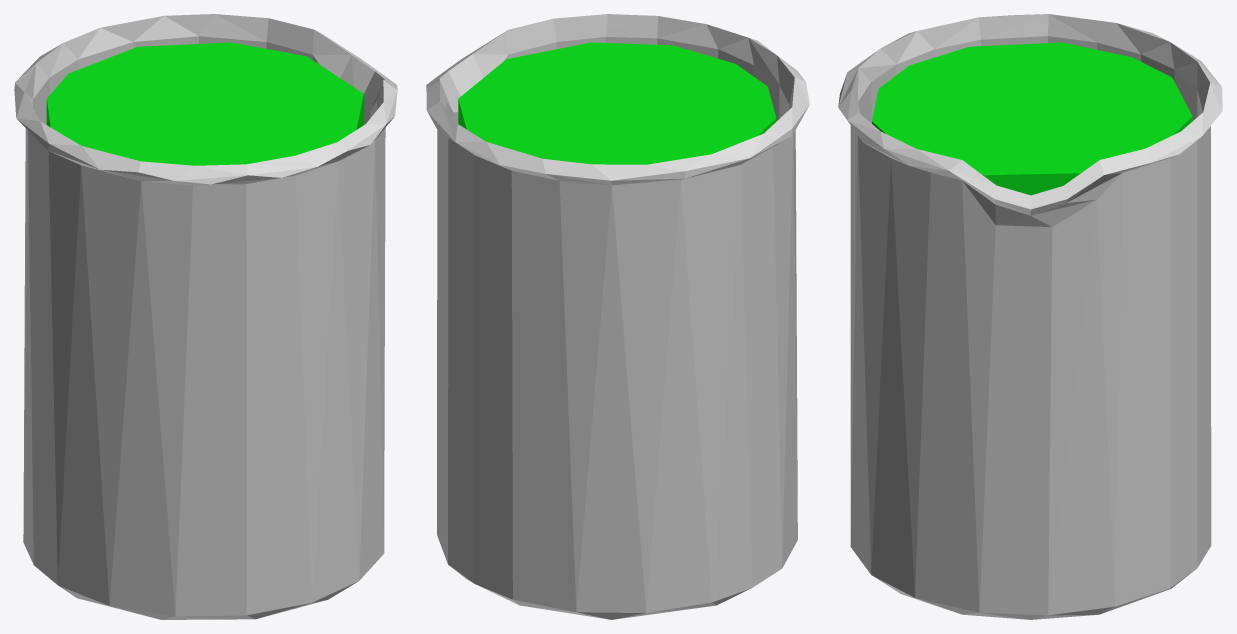
Rendered from Beaker_1.fbx.
3 renders of one model, left to right at view 1: azimuth 30°, elevation 25°; view 2: azimuth 150°, elevation 25°; view 3: azimuth 270°, elevation 25°, orthographic.
Visible parts, largest first — view 1: flask_2, solution_2; view 2: flask_2, solution_2; view 3: flask_2, solution_2.
Part boxes in pixels (box(x1,y1,x2,y2)): flask_2: box(14, 14, 397, 619); solution_2: box(46, 42, 363, 165); flask_2: box(426, 14, 809, 619); solution_2: box(458, 42, 776, 164); flask_2: box(838, 14, 1222, 619); solution_2: box(872, 42, 1192, 195).
Bounding box in the file's own units: 0.1068 × 0.1355 × 0.1026.
